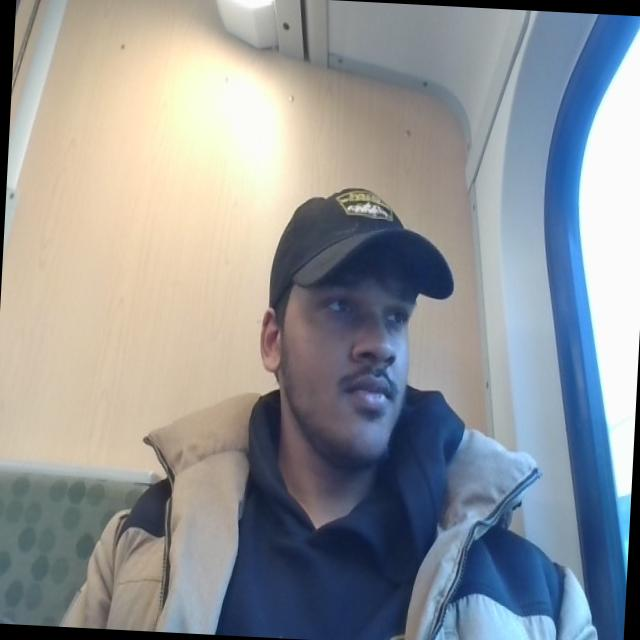hat: (263, 179, 468, 335)
